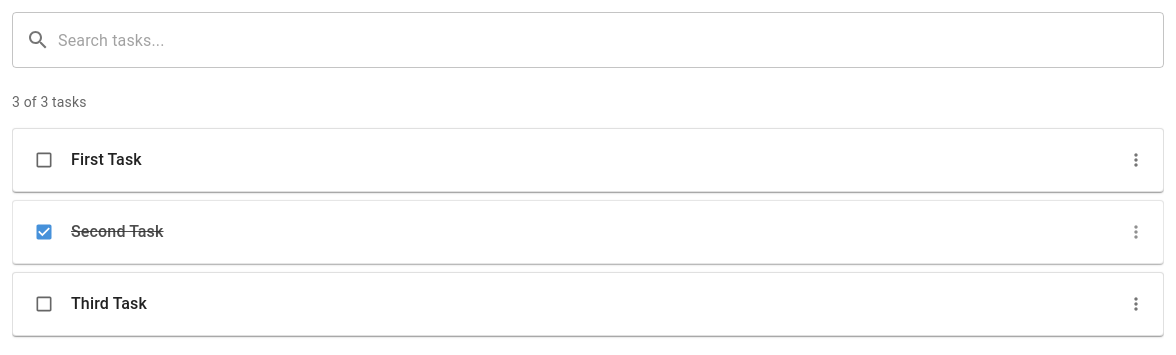
Test: TaskList › should filter tasks by search query
Type "First" into the field with placeholder "Search tasks...". click: (611, 40)
box: [58,12,1164,68]
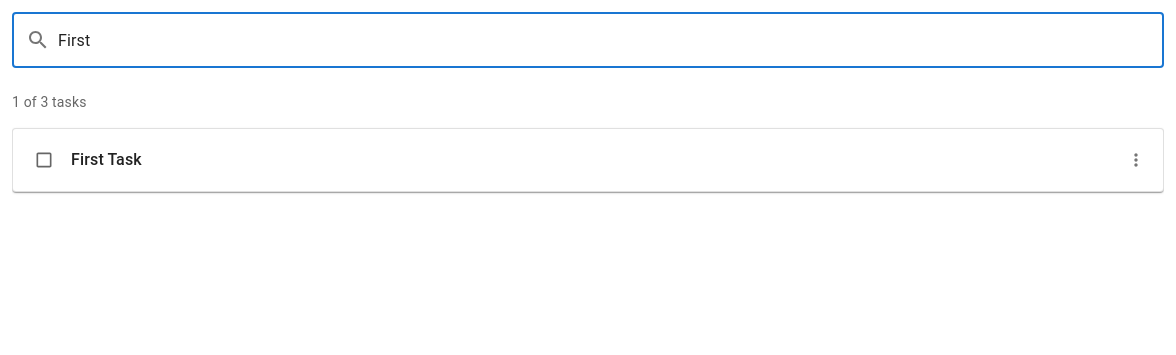
Check: the text "1 of 3 tasks" is shown, box [12,94,87,110]
Check: the heading "Second Task" is gone
Check: the heading "Third Task" is gone
